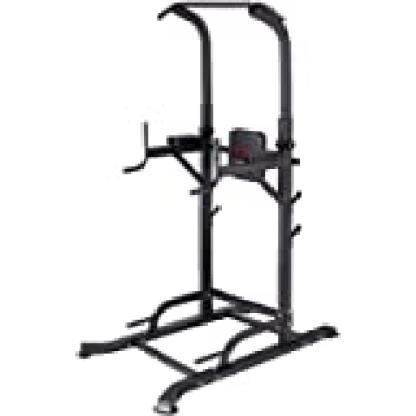chinning dipping: (78, 1, 342, 414)
